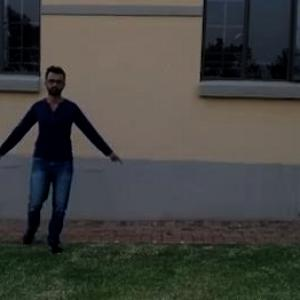land: (1, 74, 105, 241)
